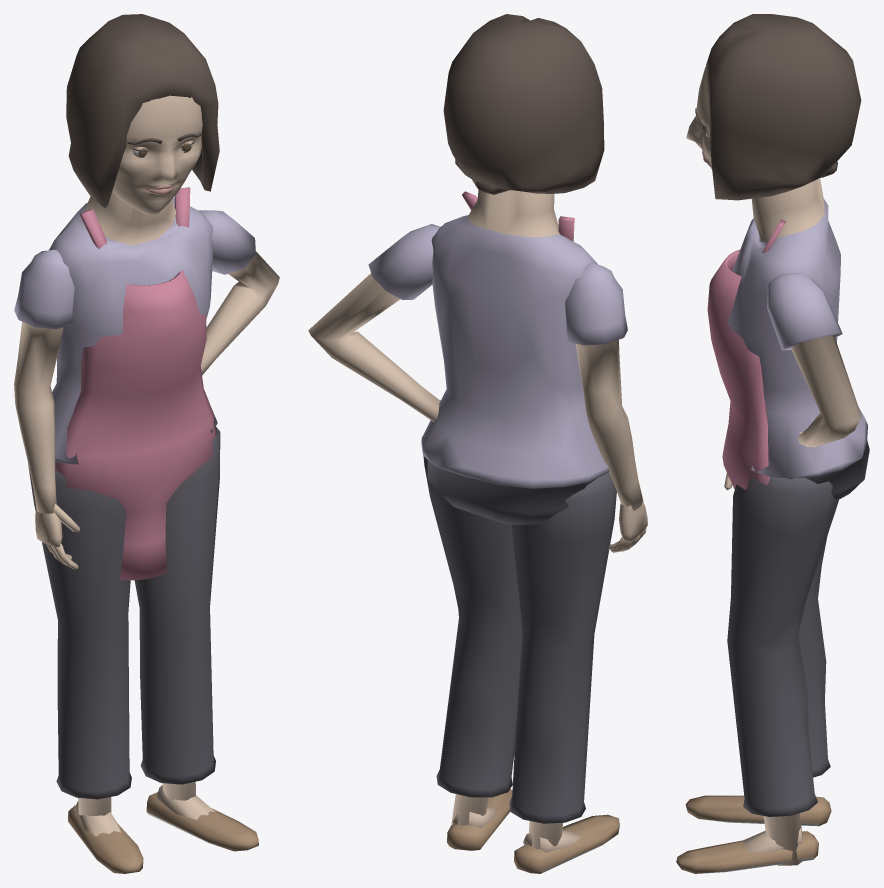
Rendered from people-2.glb.
3 renders of one model, left to right at view 1: azimuth 30°, elevation 25°; view 2: azimuth 150°, elevation 25°; view 3: azimuth 270°, elevation 25°, orthographic.
Parts seen in each view (by area): view 1: vendor_body, arm_wave_mesh; view 2: vendor_body, arm_wave_mesh; view 3: vendor_body.
Part boxes in pixels (<box>): vendor_body: <box>28,14,279,873</box>; arm_wave_mesh: <box>14,250,79,569</box>; vendor_body: <box>308,14,619,873</box>; arm_wave_mesh: <box>565,263,647,552</box>; vendor_body: <box>676,14,869,873</box>.
Size of the model in its own units: 0.5637 by 1.52 by 0.3299.
